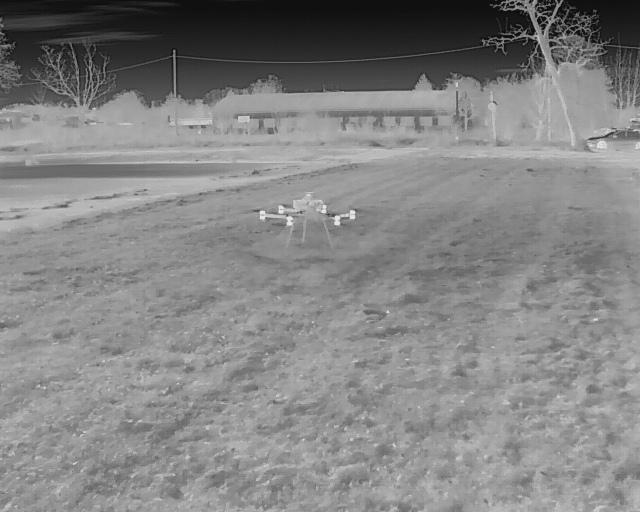drone: (242, 192, 358, 260)
